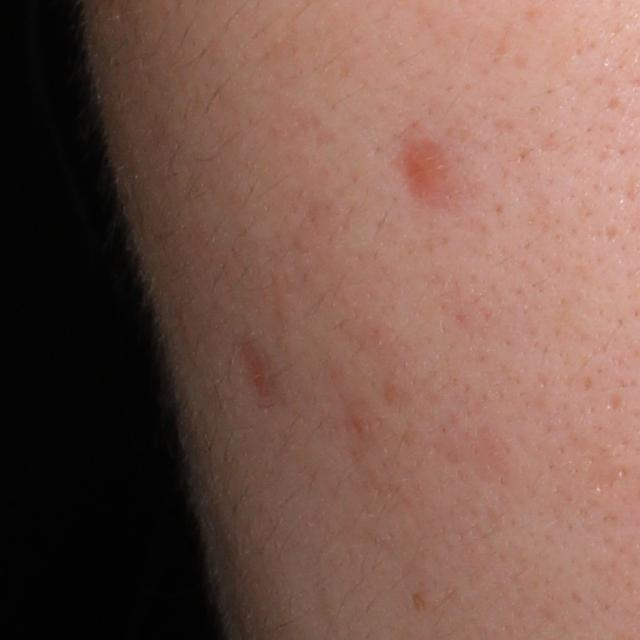atrophic_scar: (242, 335, 270, 412), (585, 447, 629, 495)
papule: (391, 137, 448, 205)
